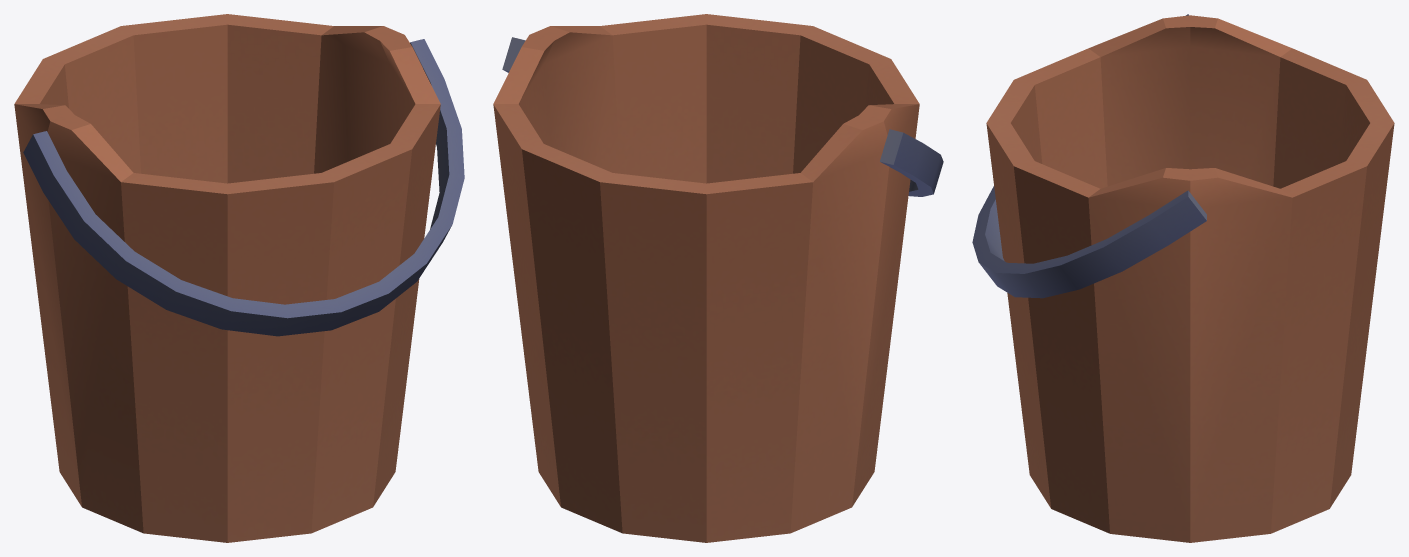
The model's file is bucket.fbx.
3 views of the same model, side by side, from view 1: azimuth 30°, elevation 25°; view 2: azimuth 150°, elevation 25°; view 3: azimuth 270°, elevation 25° (orthographic). The views are drawn at different scales.
Parts seen in each view (by area): view 1: bucket; view 2: bucket; view 3: bucket.
Part boxes in pixels (x1,y1,x2,y2): bucket: [14, 14, 464, 542]; bucket: [493, 14, 943, 542]; bucket: [972, 14, 1394, 542].
Size of the model in its own units: 37.02 by 35.61 by 36.14.
